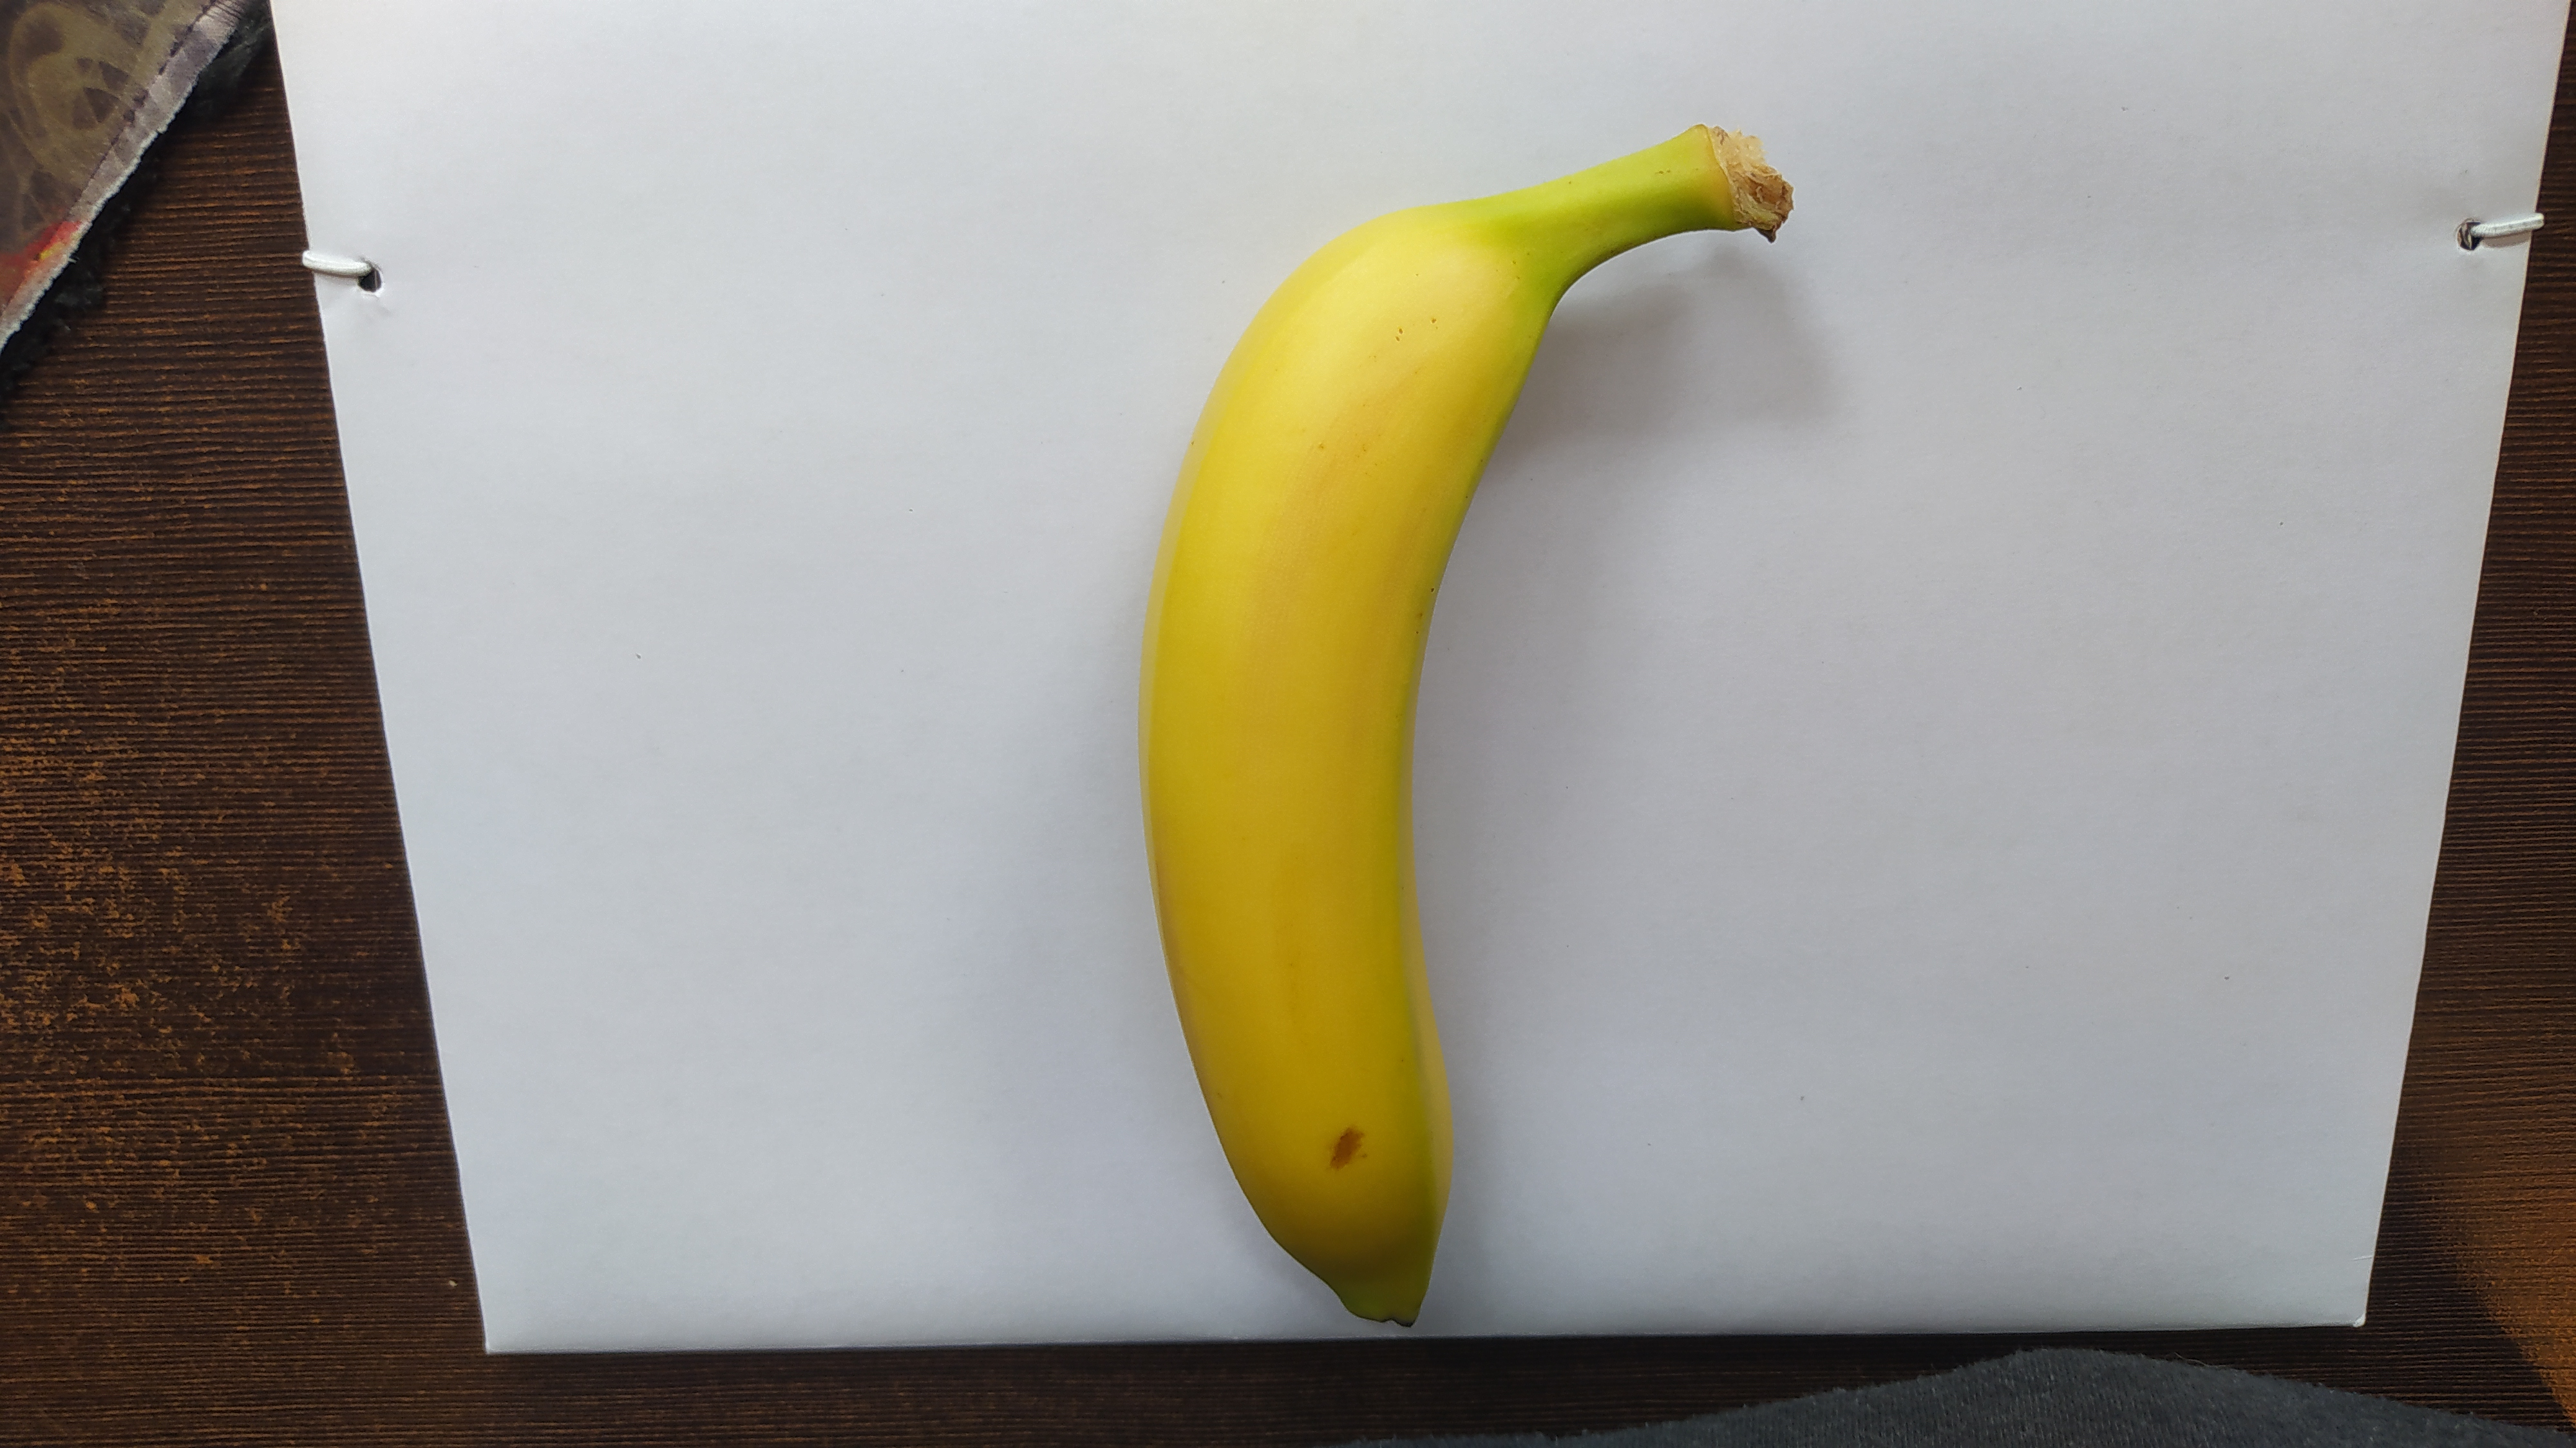banana: (1132, 124, 1799, 1331)
